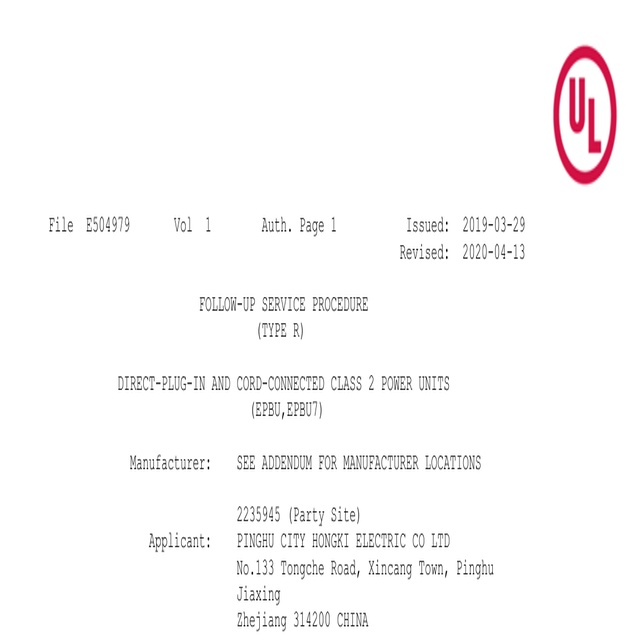ul: (555, 42, 615, 184)
